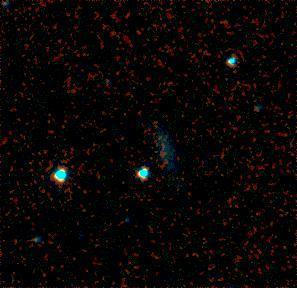star: (48, 179, 78, 209)
